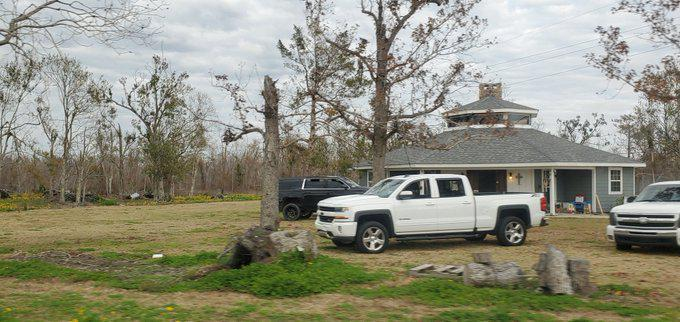affected: (362, 84, 644, 211)
